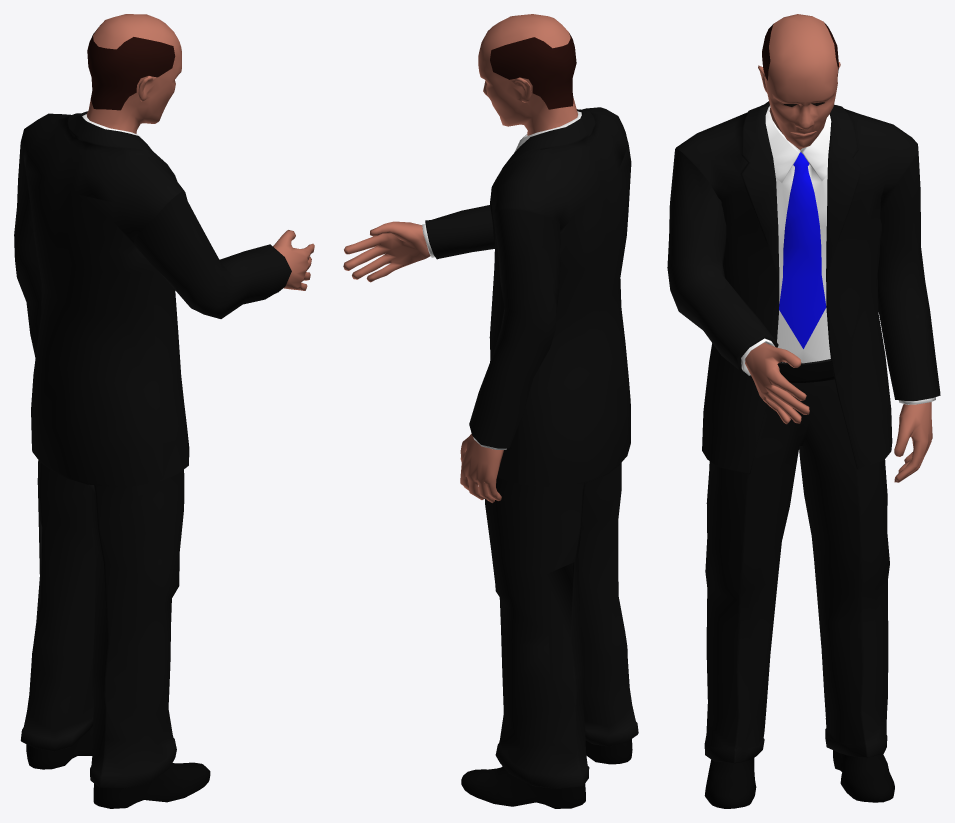
The model's file is man2.FBX.
3 views of the same model, side by side, from view 1: azimuth 30°, elevation 25°; view 2: azimuth 150°, elevation 25°; view 3: azimuth 270°, elevation 25° (orthographic). The views are drawn at different scales.
Visible parts, largest first — view 1: Group_040, Group_039; view 2: Group_040, Group_039; view 3: Group_040, Group_039.
Part boxes in pixels (x1,y1,x2,y2): Group_040: [14, 14, 210, 808]; Group_039: [134, 191, 314, 318]; Group_040: [460, 14, 638, 808]; Group_039: [343, 205, 494, 282]; Group_040: [675, 14, 940, 808]; Group_039: [667, 149, 809, 424].
Bounding box in the file's own units: 1.76 × 4.67 × 1.5.
